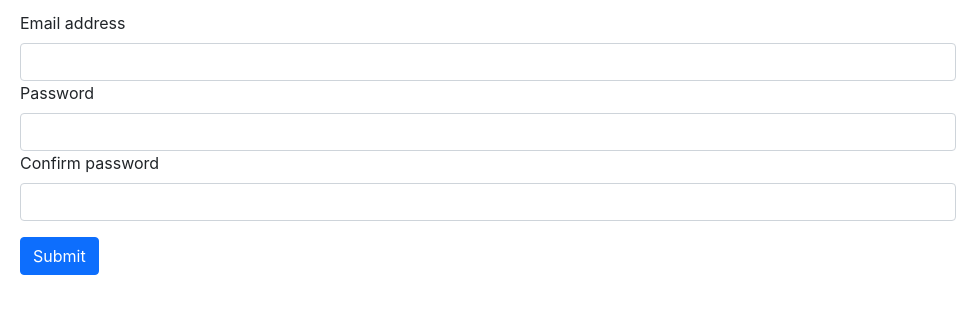
Test: App-Test › Error Handling › Should be an error message if passwords not match and initialy not error message
The width and height of the screenshot is (977, 336).
Type "test@test.com" into the field labelled "Email address". click: {"x": 488, "y": 62}
box: [20, 43, 956, 81]
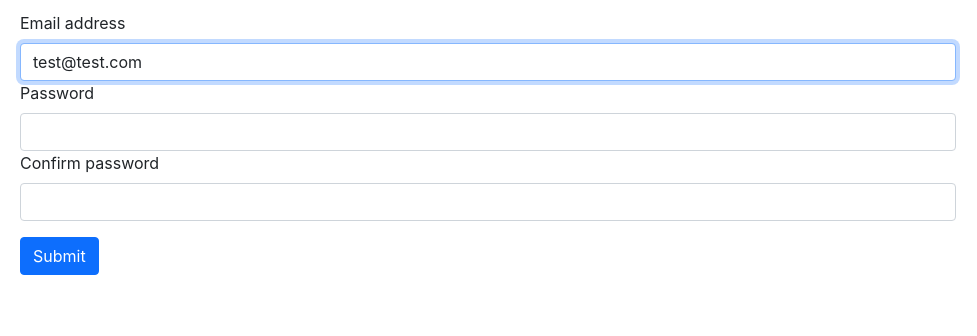
Type "12345" into the password field labelled "Password". click: {"x": 488, "y": 132}
box: [20, 113, 956, 151]
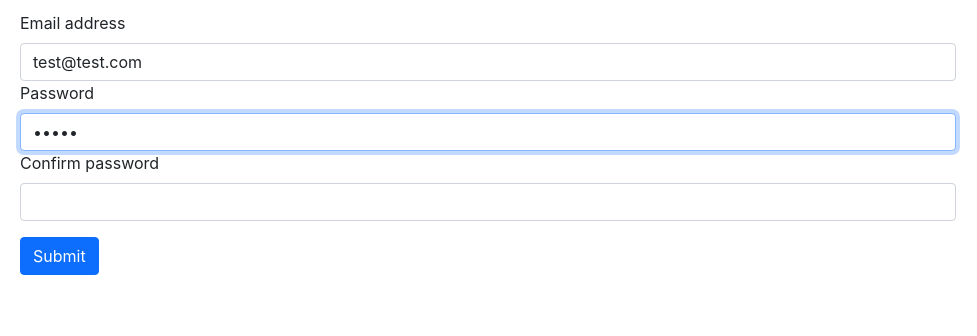
Type "123456" into the password field labelled "Confirm password". click: {"x": 488, "y": 202}
box: [20, 183, 956, 221]
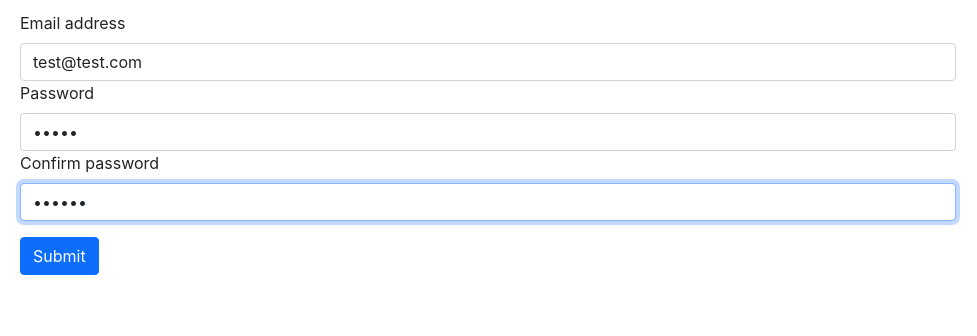
Click the button "Submit". click: {"x": 59, "y": 256}
box: [20, 237, 99, 275]
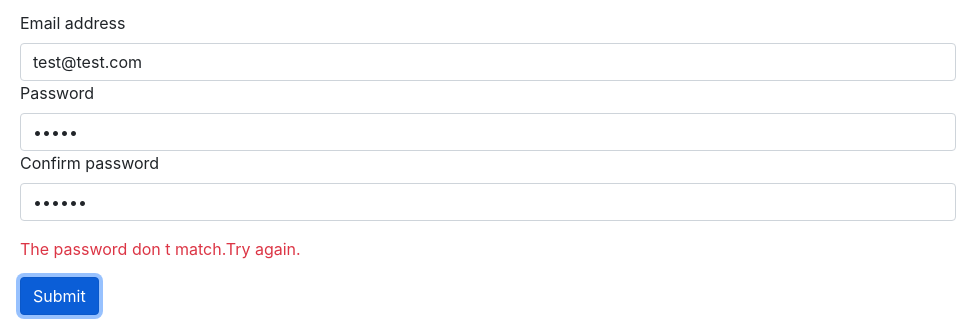
Result: the text "The password don t match.Try again." is shown at [20, 239, 301, 259]
